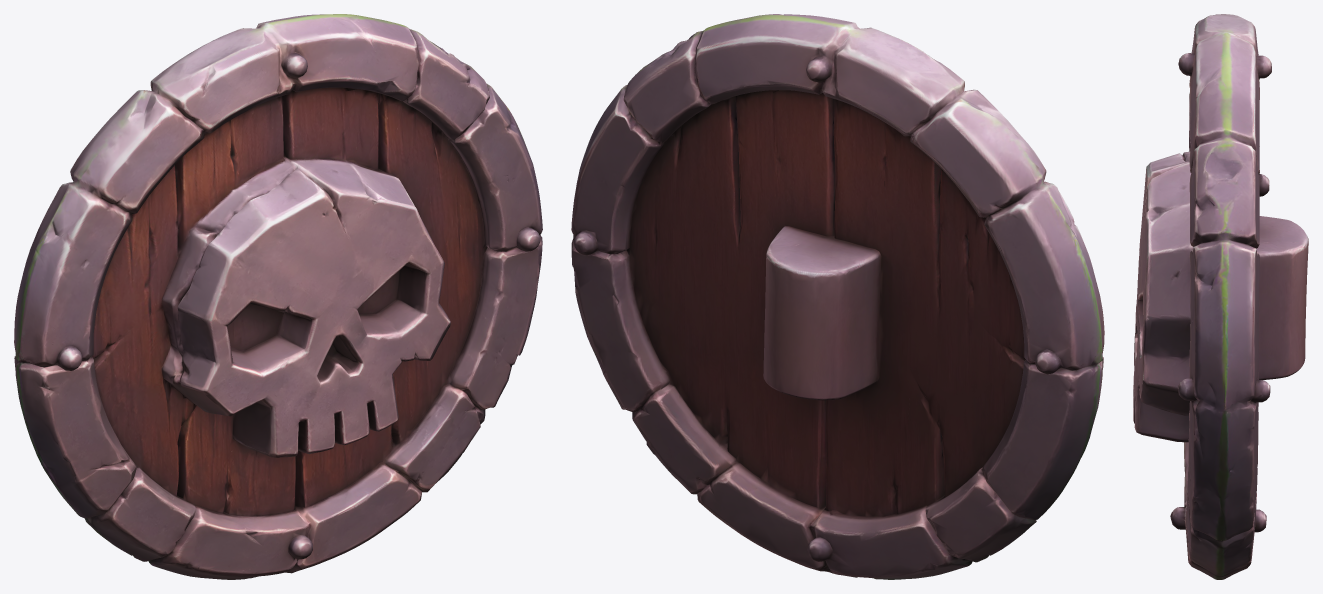
The model's file is Shield_Custom.glb.
3 renders of one model, left to right at view 1: azimuth 30°, elevation 25°; view 2: azimuth 150°, elevation 25°; view 3: azimuth 270°, elevation 25°, orthographic. The views are drawn at different scales.
Visible parts, largest first — view 1: tripo_node_86ef55e0-1178-4d3a-8871-4e10ed83b185; view 2: tripo_node_86ef55e0-1178-4d3a-8871-4e10ed83b185; view 3: tripo_node_86ef55e0-1178-4d3a-8871-4e10ed83b185.
Part boxes in pixels (<box>): tripo_node_86ef55e0-1178-4d3a-8871-4e10ed83b185: <box>14,14,542,579</box>; tripo_node_86ef55e0-1178-4d3a-8871-4e10ed83b185: <box>571,14,1104,579</box>; tripo_node_86ef55e0-1178-4d3a-8871-4e10ed83b185: <box>1133,14,1308,579</box>.
Size of the model in its own units: 0.9774 by 0.9802 by 0.2995.
1 material, 1 textured.
